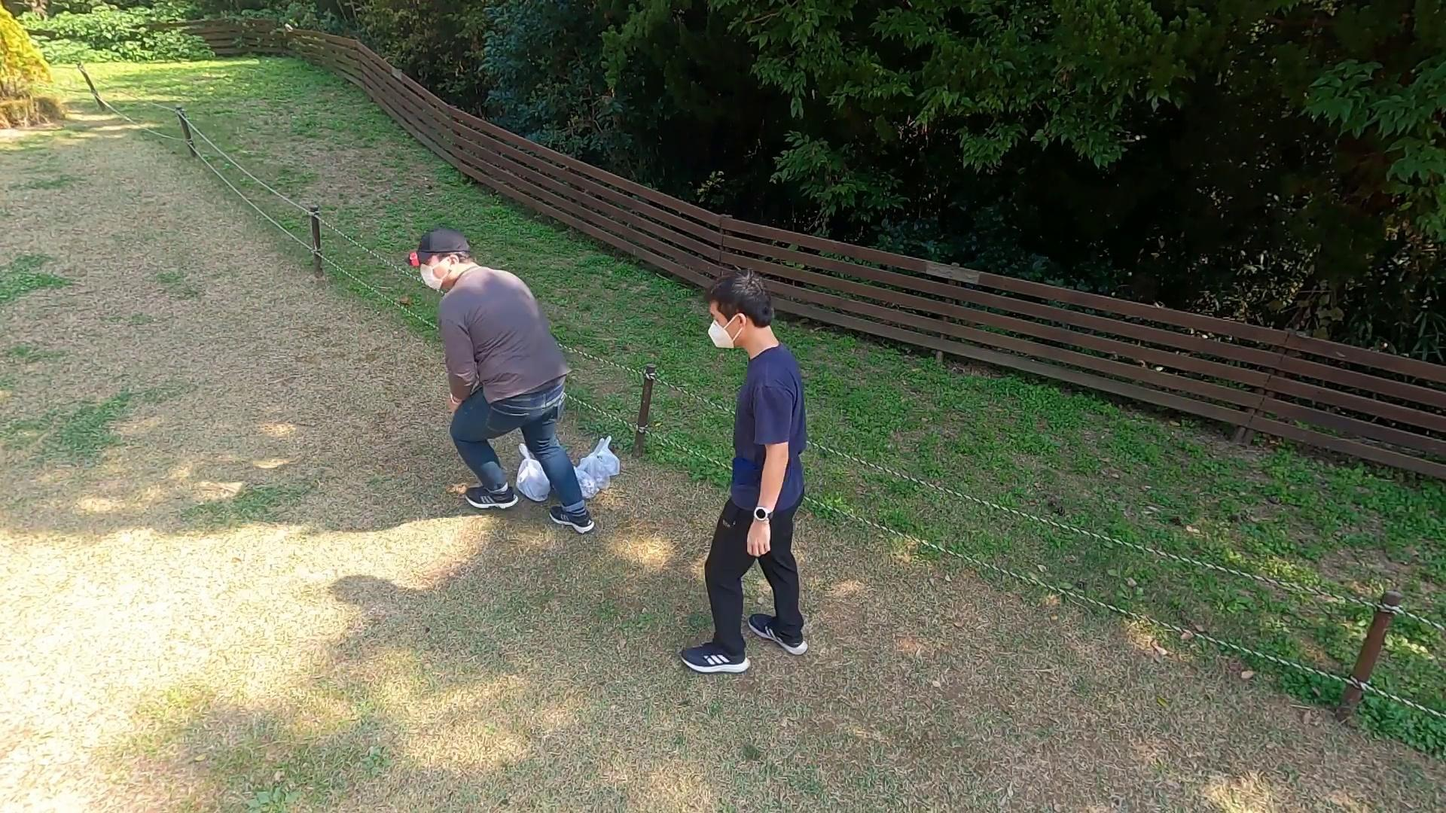person: (395, 230, 604, 536), (668, 265, 818, 680)
trash: (505, 433, 554, 503), (576, 429, 628, 487), (567, 452, 607, 506)
